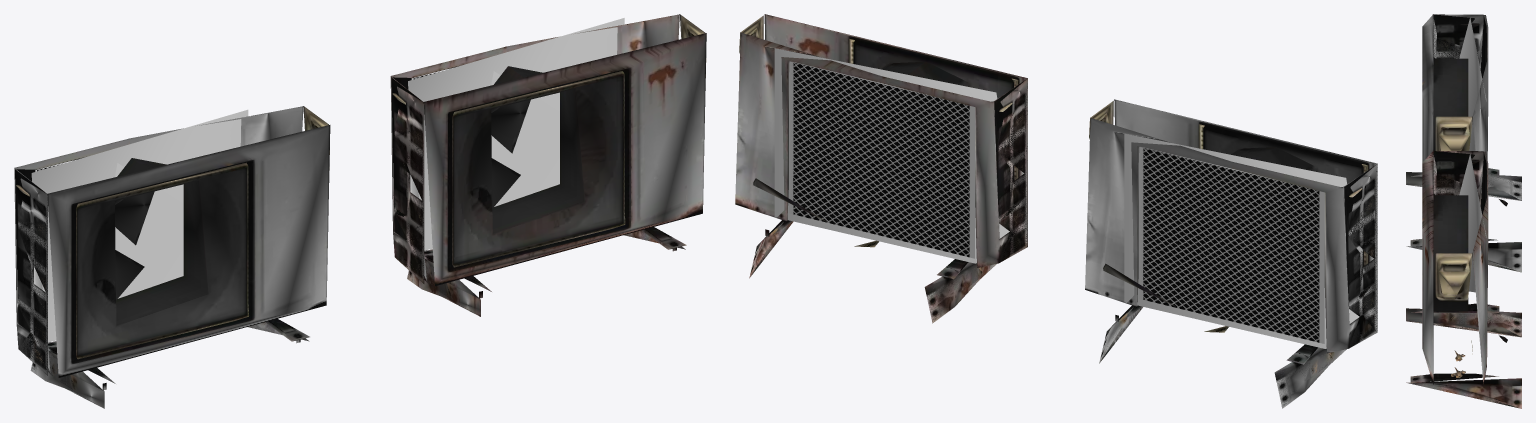
Rendered from exterior_aircon_unit.glb.
3 renders of one model, left to right at view 1: azimuth 30°, elevation 25°; view 2: azimuth 150°, elevation 25°; view 3: azimuth 270°, elevation 25°, orthographic. The views are drawn at different scales.
Visible parts, largest first — view 1: exterior_aircon_unit, exterior_aircon_unit_rusted; view 2: exterior_aircon_unit, exterior_aircon_unit_rusted; view 3: exterior_aircon_unit_rusted, exterior_aircon_unit.
Part boxes in pixels (x1,y1,x2,y2): exterior_aircon_unit: (14,106,330,408); exterior_aircon_unit_rusted: (390,14,706,316); exterior_aircon_unit: (1085,99,1377,408); exterior_aircon_unit_rusted: (735,14,1027,323); exterior_aircon_unit_rusted: (1406,150,1521,408); exterior_aircon_unit: (1406,14,1521,272).
Size of the model in its own units: 1.78 by 0.5876 by 0.3593.
4 materials, 4 textured.
